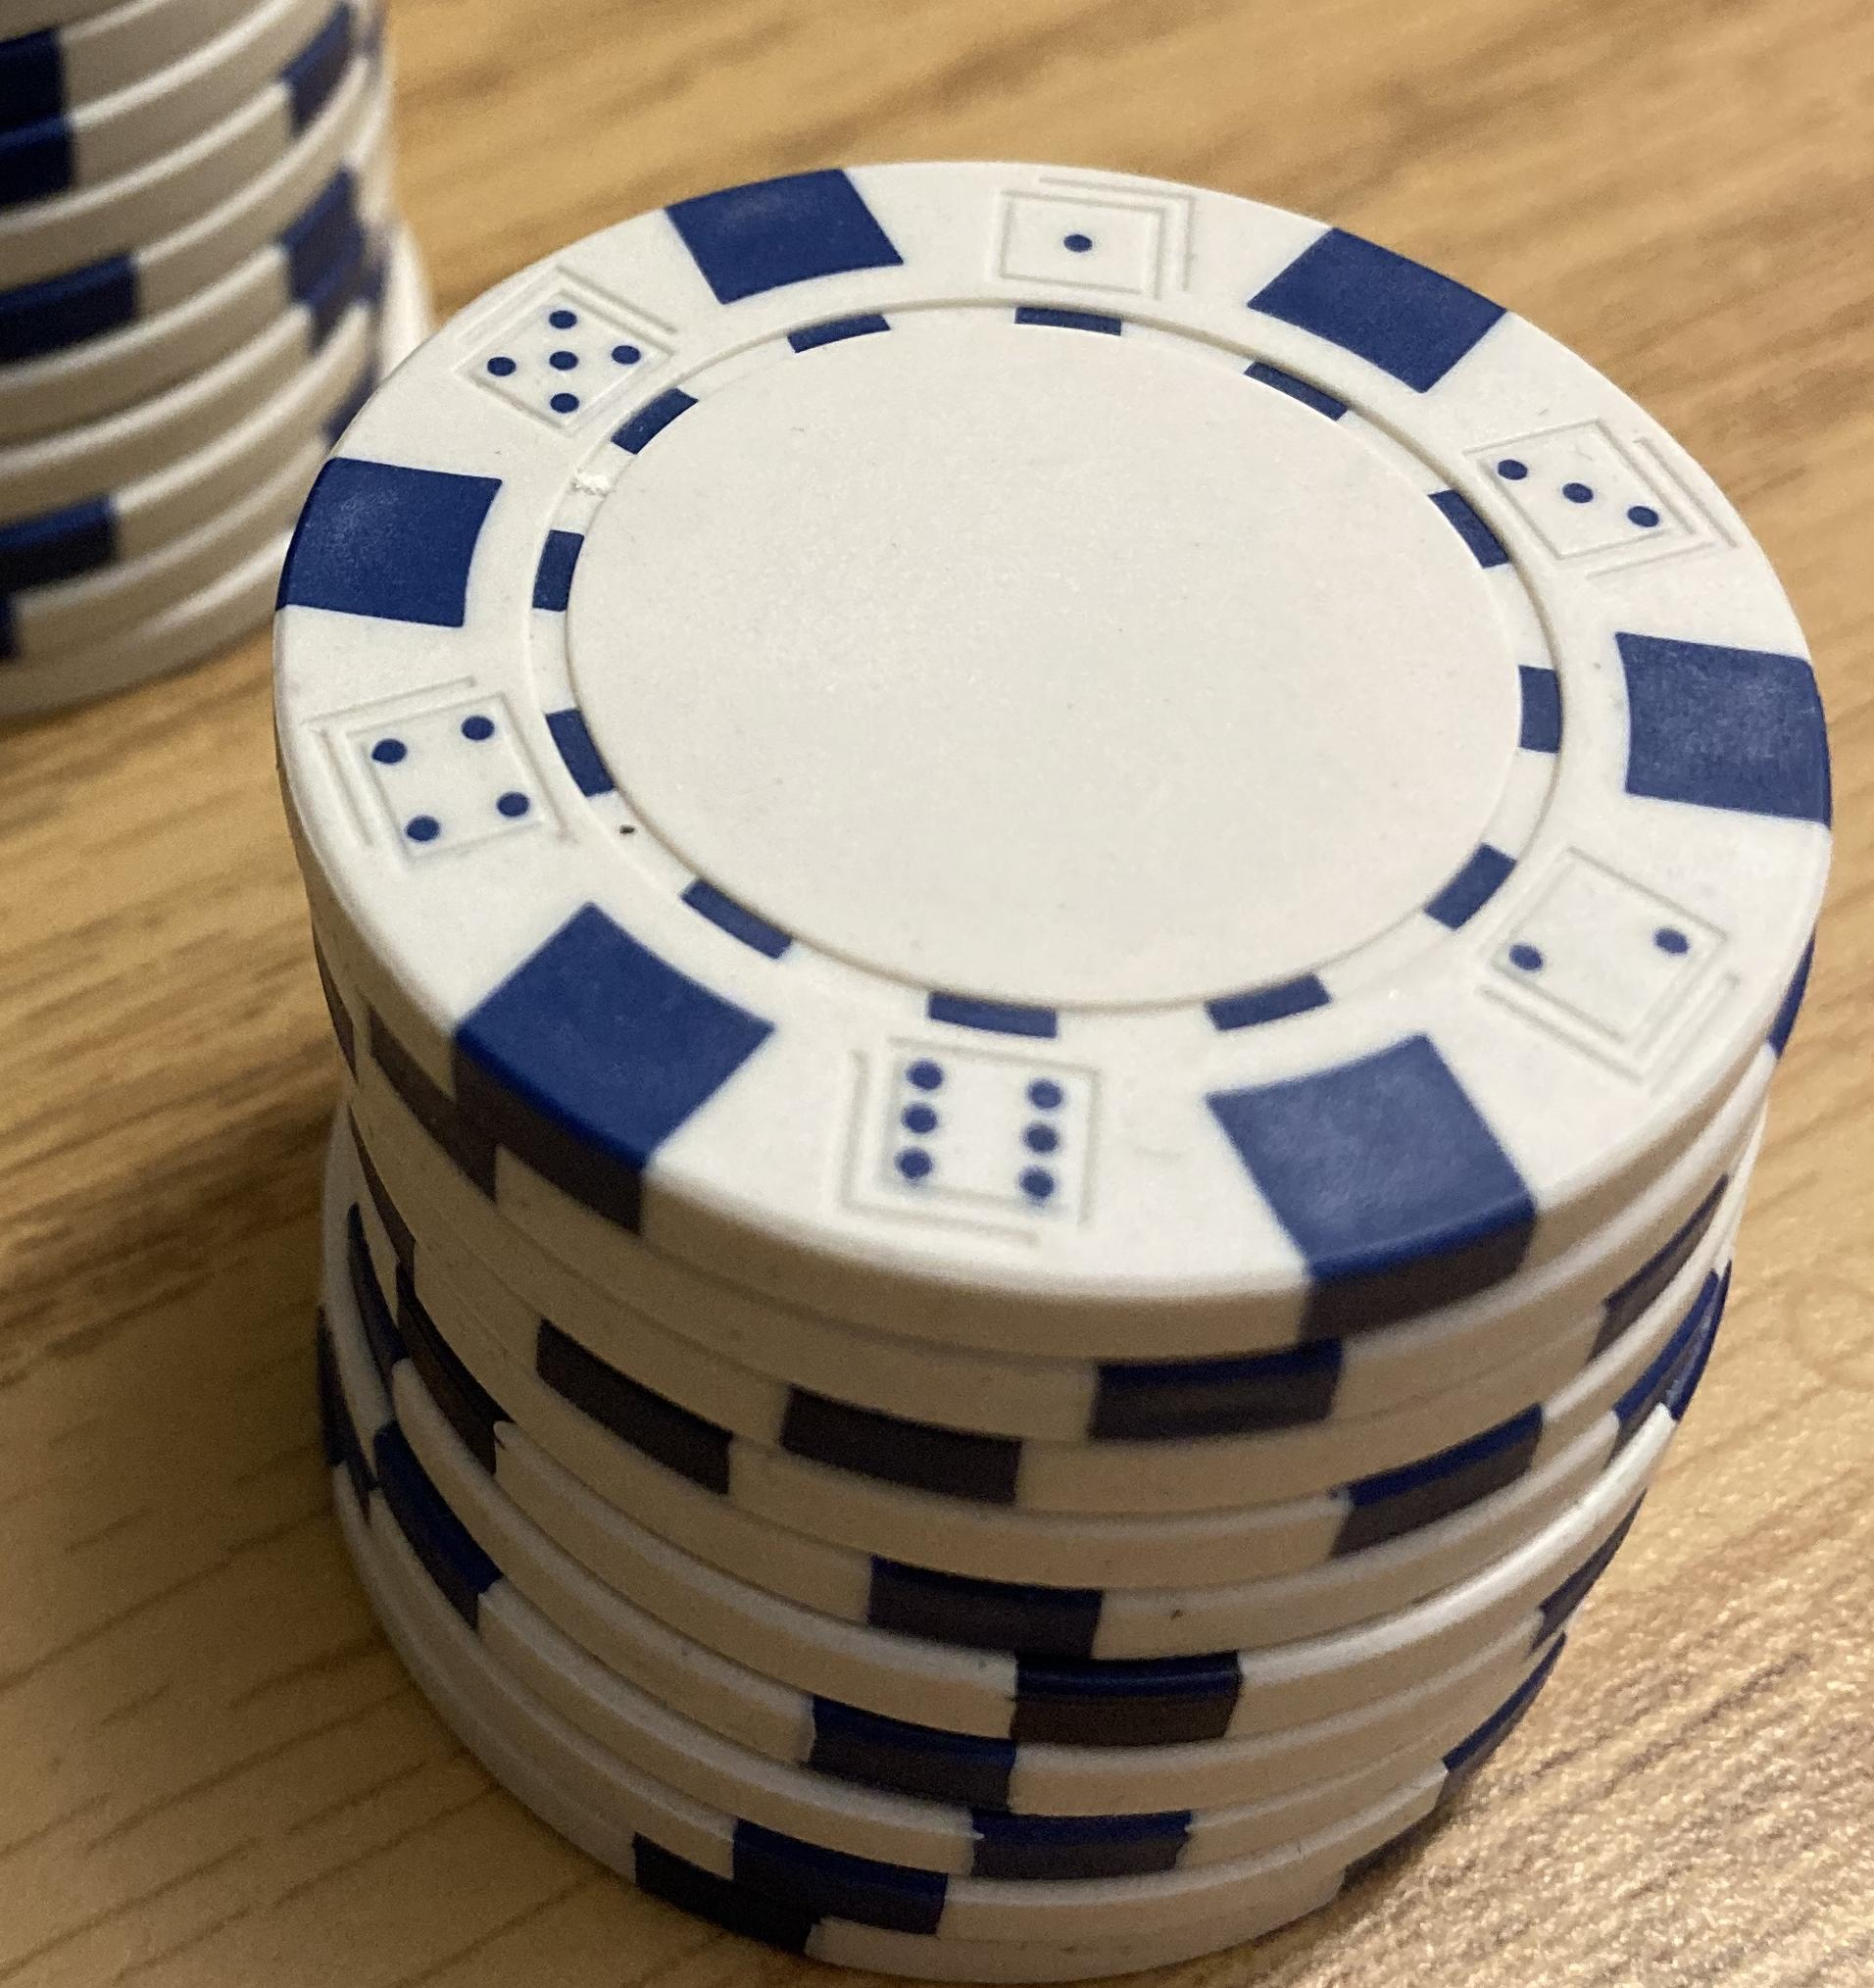Chip: (2, 2, 1874, 1988)
